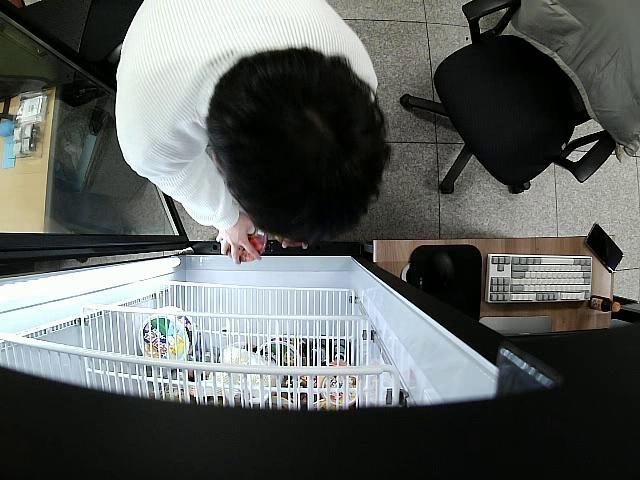05_nuguri_L: (228, 224, 267, 260)
